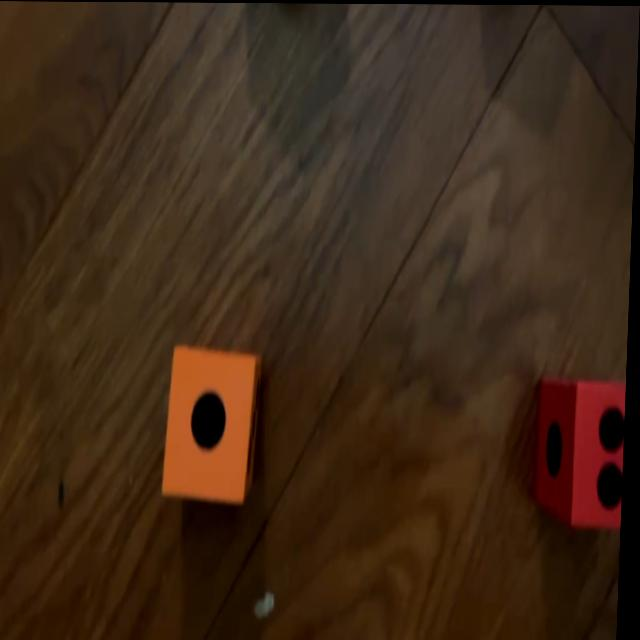red_block: (538, 376, 629, 527)
